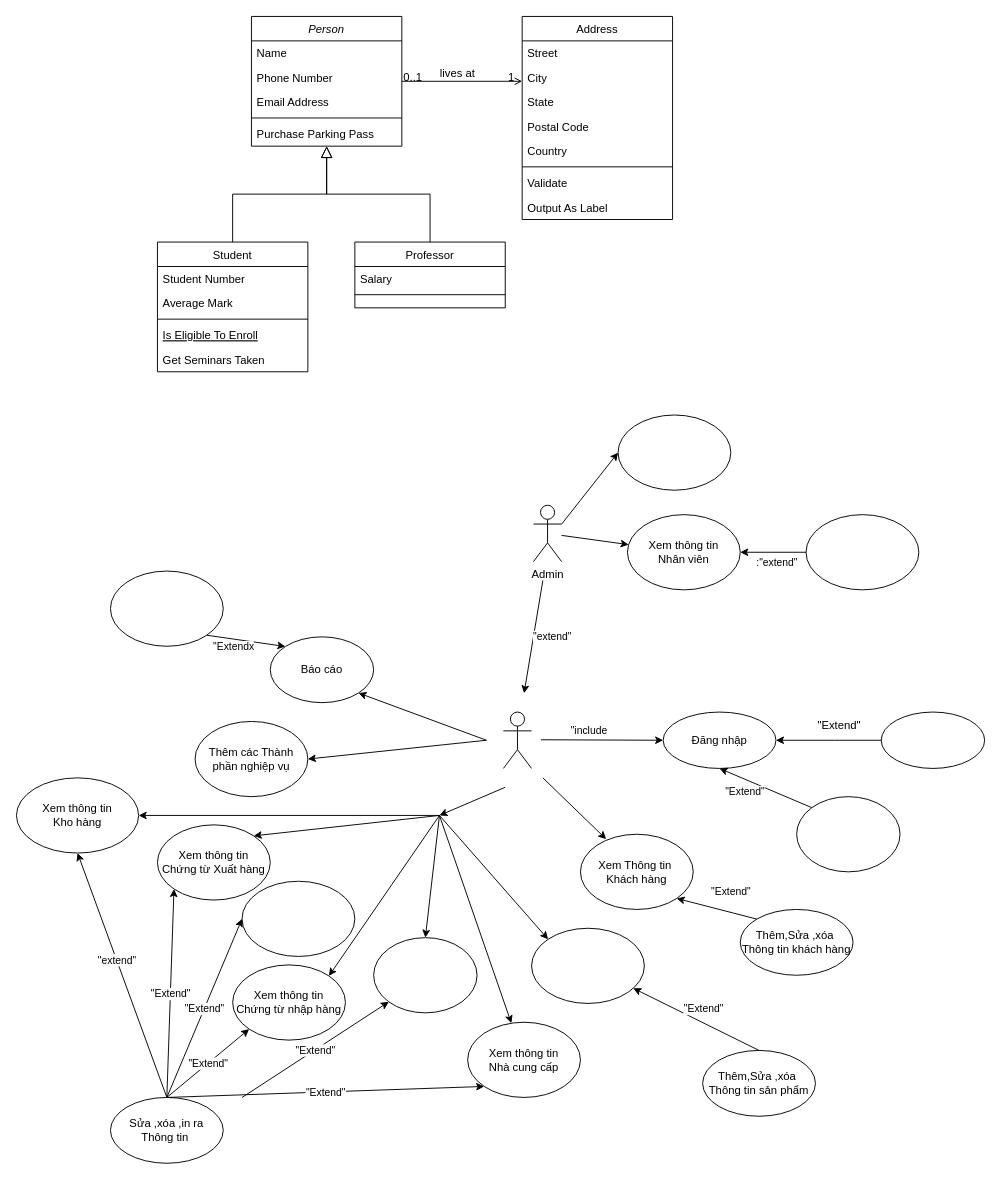
Some shapes in this 1001 by 1180 pixel diagram are drawn without their labels. Here are the shapes that lost their labels. From the top down, the centre of each, then its label:
pixel 674 452: Thêm nhân viên
pixel 862 552: Xóa,sửa thông tin Nhân viên
pixel 166 608: Xem,In ra
pixel 517 739: Manager
pixel 932 739: Đăng xuất
pixel 848 834: Đổi mật khẩu
pixel 298 918: Xem thông tin Chứng từ Thu
pixel 425 975: Xem thông tin Chứng từ Chi
pixel 587 965: Xem thông tin Sản phẩm
